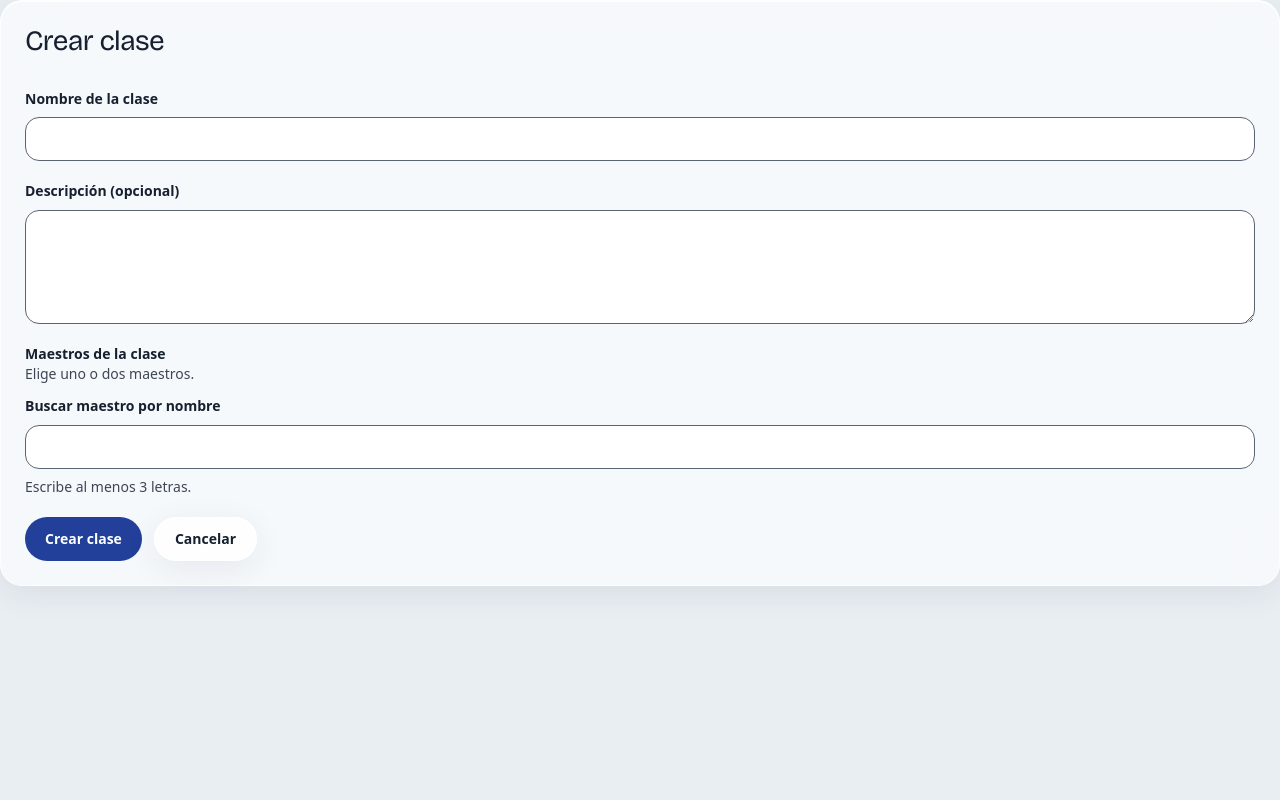
it: CHORE-03 · la frase genérica en un ErrorDeCampo de clases: repetir el control › CH3-B10: crear clase tras F2: el mismo botón manda una petición nueva y, si responde bien, el ErrorDeCampo desaparece
Type "Álgebra" into the field labelled "Nombre de la clase" at (640, 140), box [25, 118, 1255, 162]
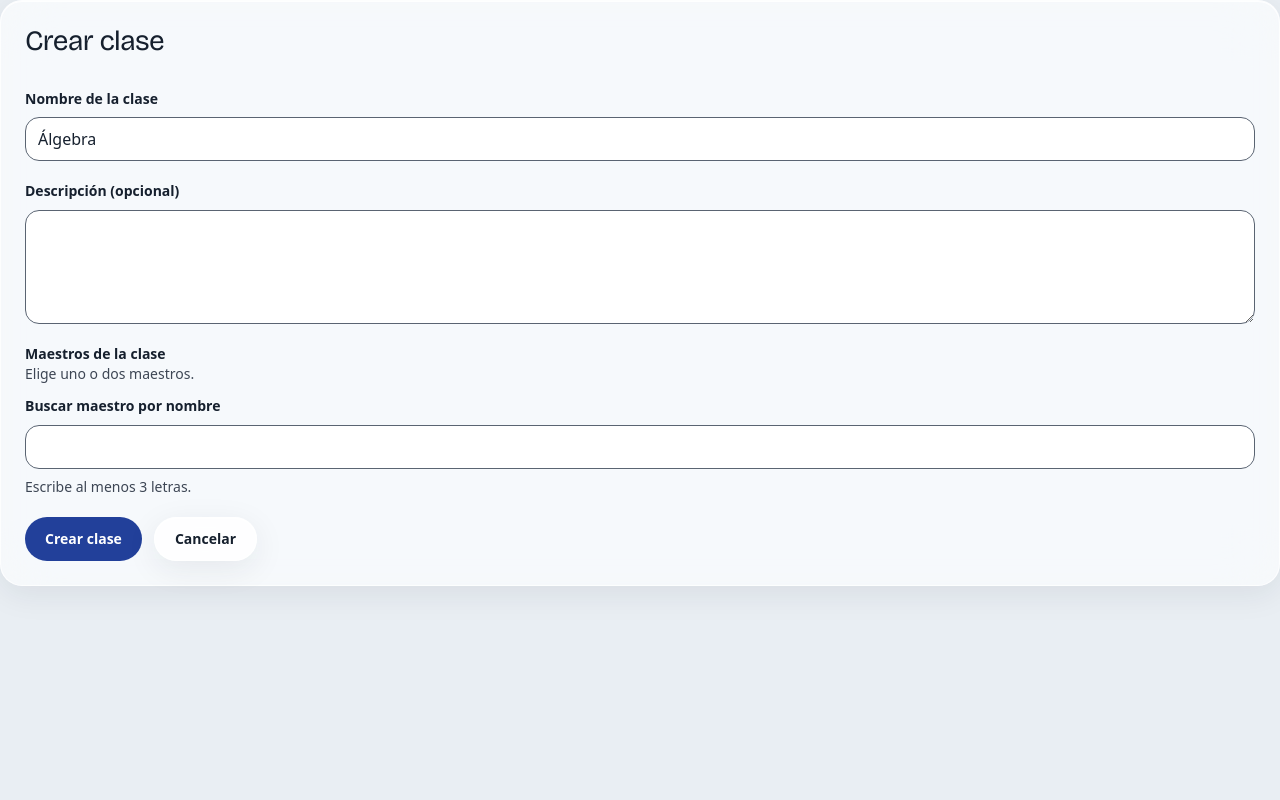
Type "Luis" into the field labelled "Buscar maestro por nombre" at (640, 447), box [25, 425, 1255, 469]
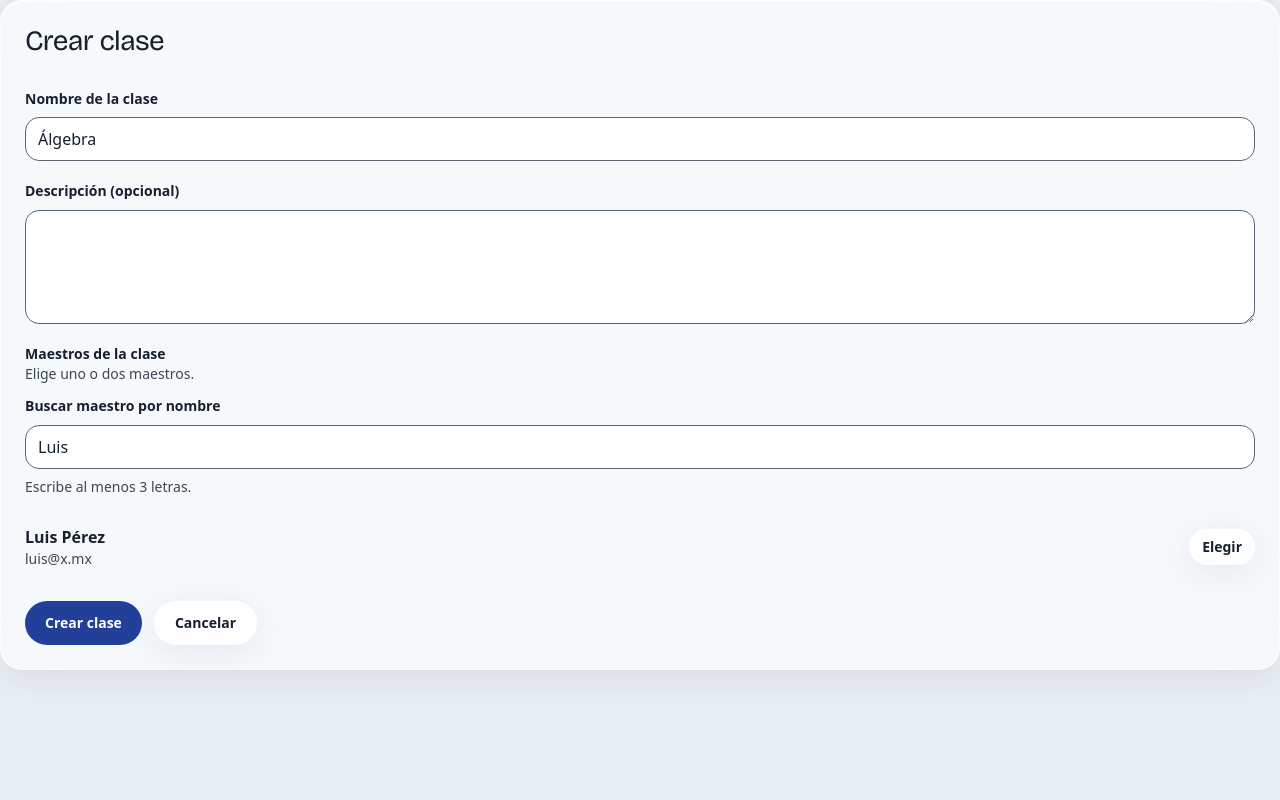
Click the button named "Elegir Luis Pérez" at (1222, 547), box [1189, 529, 1255, 565]
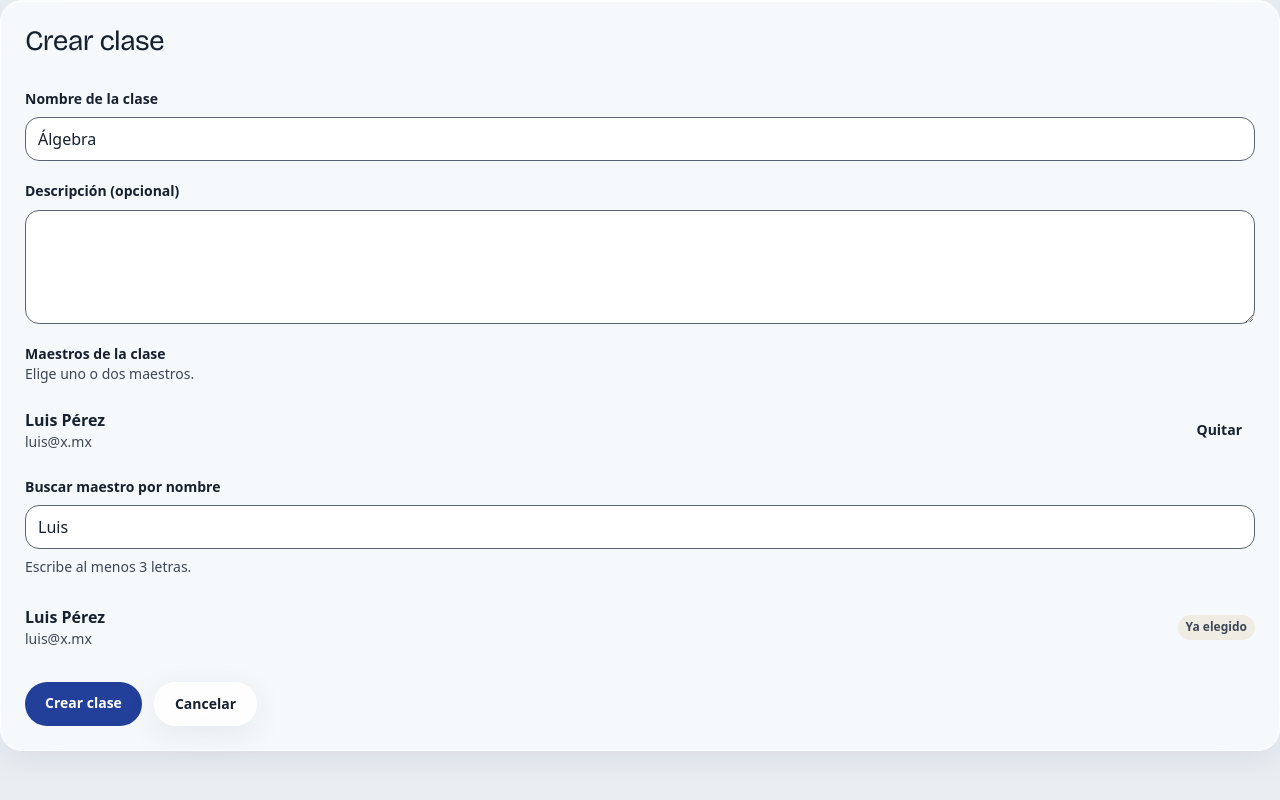
Click the button "Crear clase" at (83, 704), box [25, 682, 142, 726]
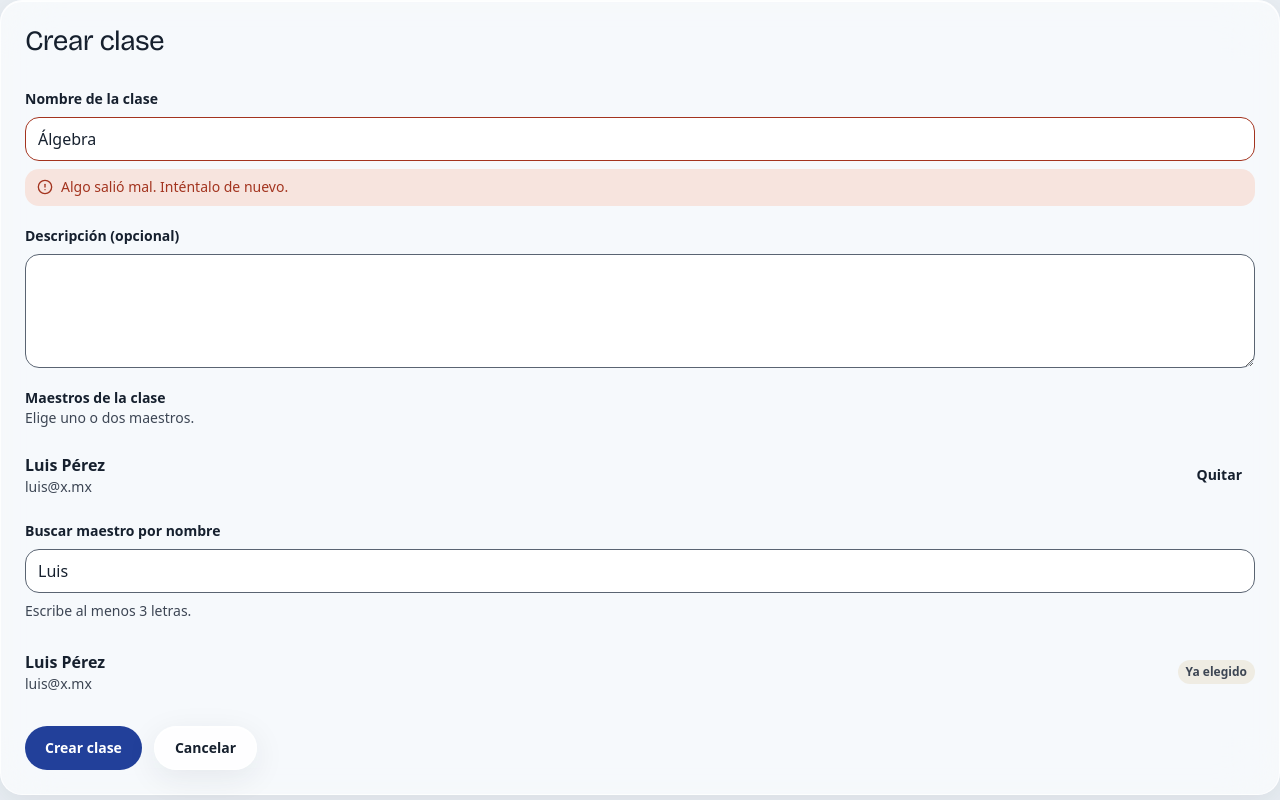
Click the button "Crear clase" at (83, 748), box [25, 726, 142, 770]
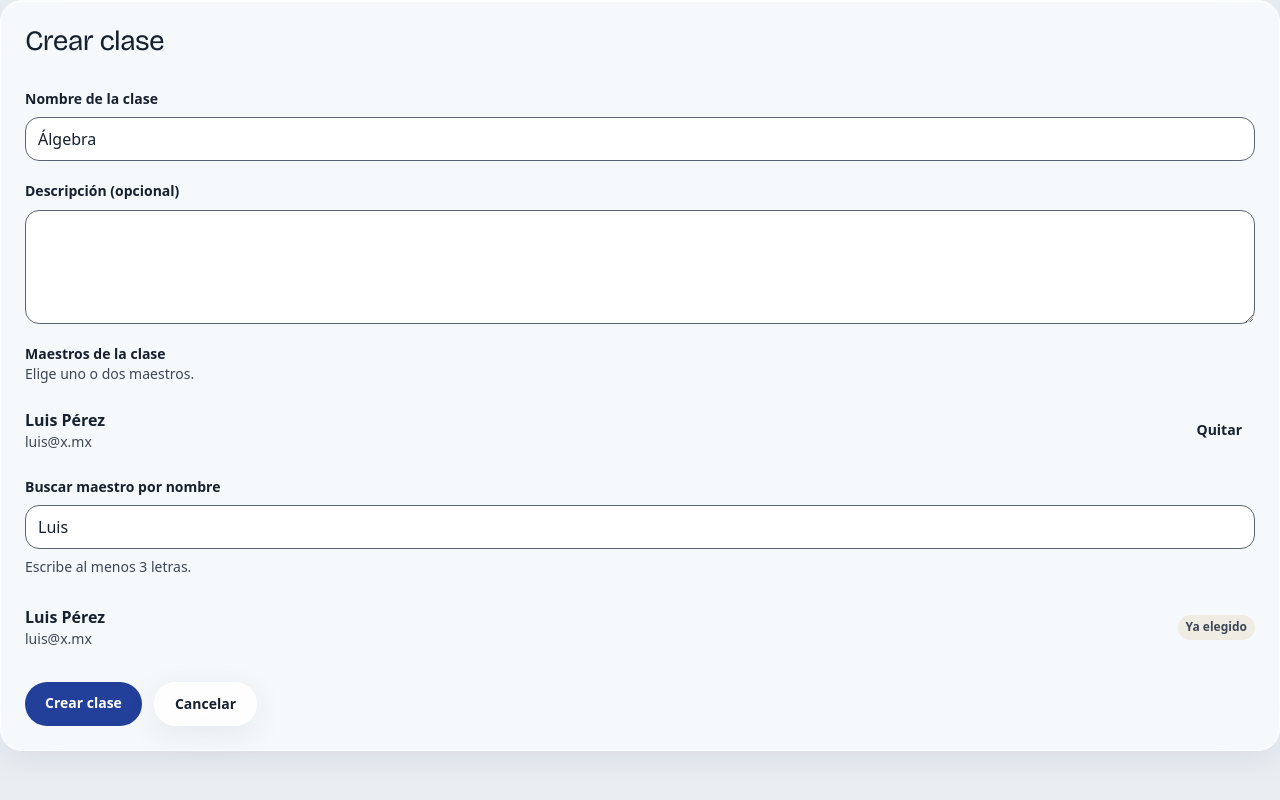
Check: the text "Algo salió mal. Inténtalo de nuevo." is gone
